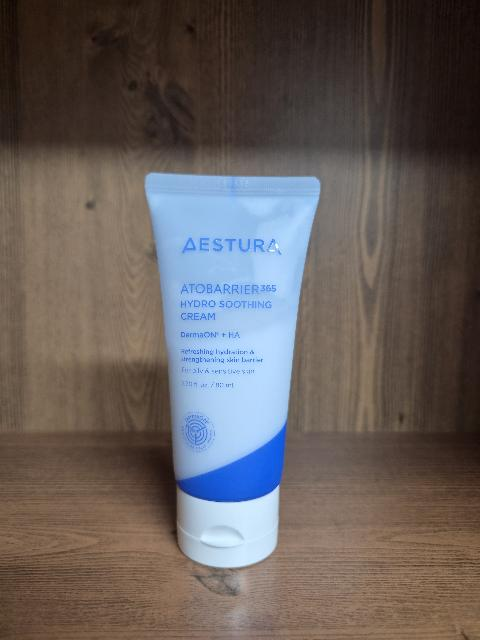handcream: (145, 173, 321, 568)
